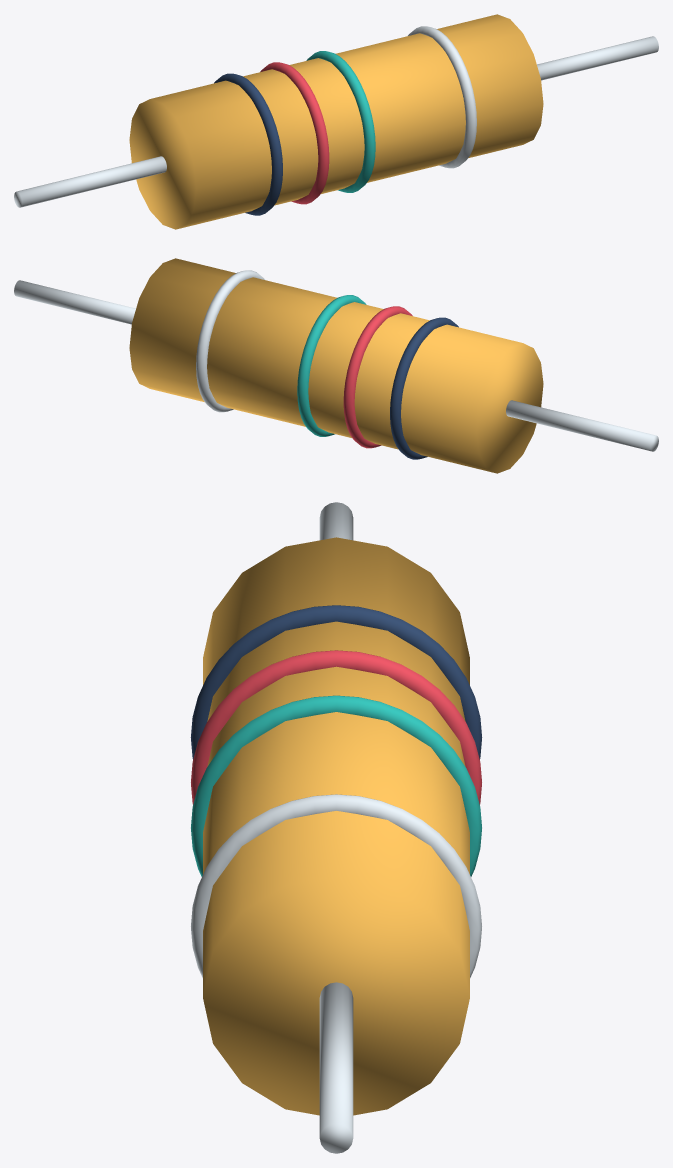
Rendered from resistor-lite.glb.
3 renders of one model, top to bottom at view 1: azimuth 30°, elevation 25°; view 2: azimuth 150°, elevation 25°; view 3: azimuth 270°, elevation 25°, orthographic. The views are drawn at different scales.
Parts seen in each view (by area): view 1: Body; view 2: Body; view 3: Body.
Part boxes in pixels (x1=…): Body: x1=14, y1=14, x2=658, y2=229; Body: x1=14, y1=258, x2=658, y2=473; Body: x1=190, y1=502, x2=482, y2=1153.
Size of the model in its own units: 2.2 by 0.436 by 0.436.
